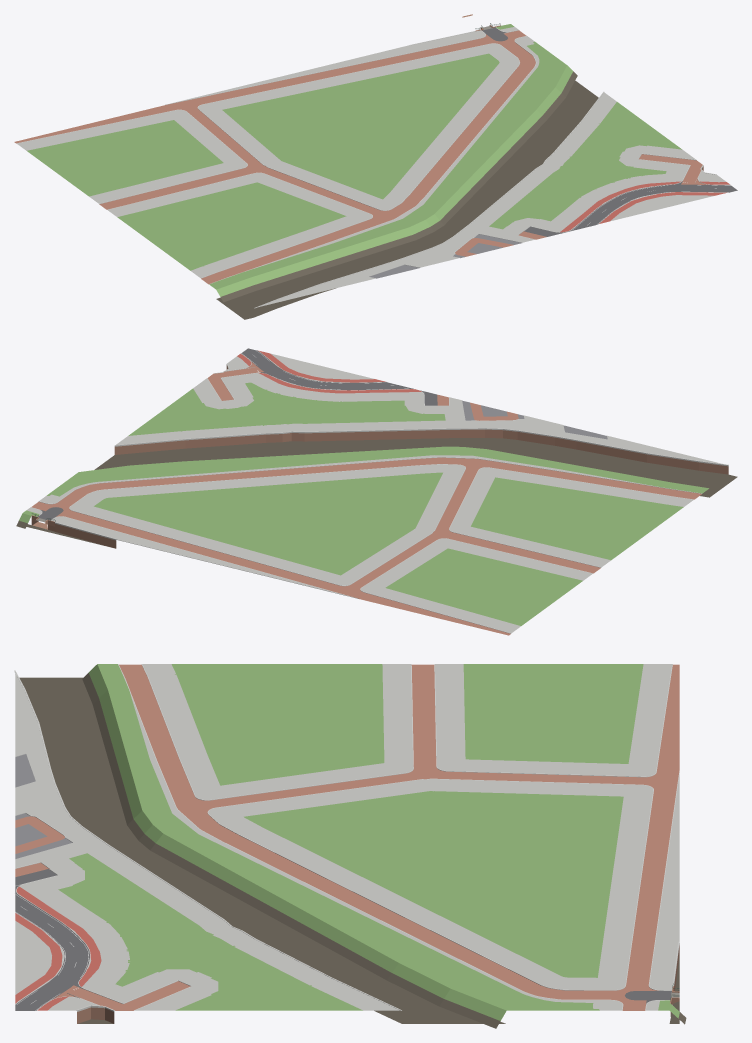
File: ground_5_5.glb
3 renders of one model, top to bottom at view 1: azimuth 30°, elevation 25°; view 2: azimuth 150°, elevation 25°; view 3: azimuth 270°, elevation 25°, orthographic. The views are drawn at different scales.
Visible parts, largest first — view 1: ground_5_5; view 2: ground_5_5; view 3: ground_5_5.
Boxes of the visible parts, x1=… form: ground_5_5: x1=14, y1=14, x2=737, y2=319; ground_5_5: x1=16, y1=348, x2=737, y2=635; ground_5_5: x1=14, y1=664, x2=686, y2=1028.
Bounding box in the file's own units: 203 × 4.6 × 177.
